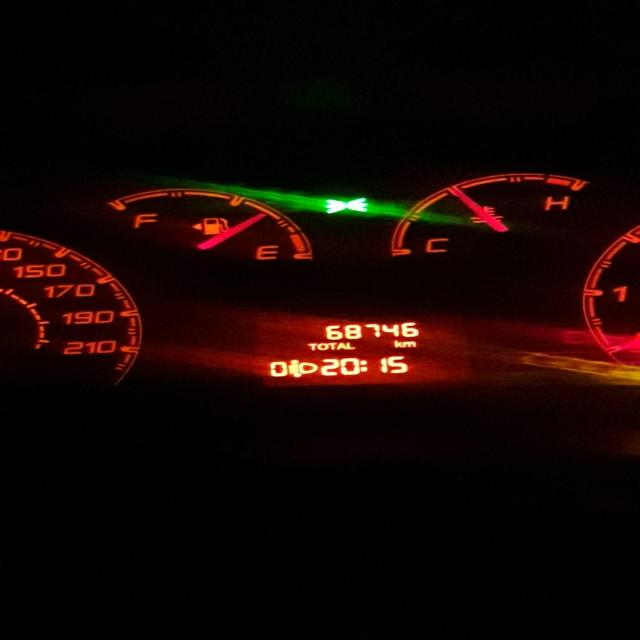odometer: (247, 310, 485, 389)
